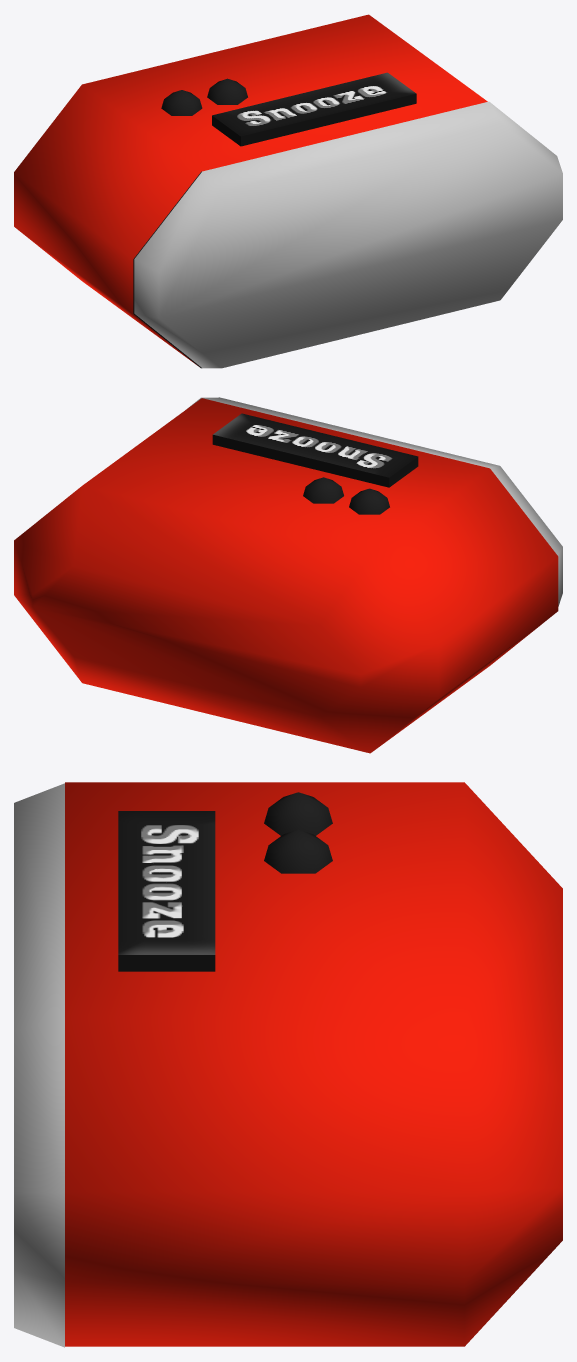
Rendered from Alarm_Clock_C.FBX.
The picture shows the model from 3 angles, top to bottom: view 1: azimuth 30°, elevation 25°; view 2: azimuth 150°, elevation 25°; view 3: azimuth 270°, elevation 25°; orthographic projection. The views are drawn at different scales.
Visible parts, largest first — view 1: Alarm Clock; view 2: Alarm Clock; view 3: Alarm Clock.
Boxes of the visible parts, x1=… form: Alarm Clock: x1=14, y1=14, x2=562, y2=368; Alarm Clock: x1=14, y1=397, x2=562, y2=753; Alarm Clock: x1=14, y1=782, x2=562, y2=1347.
Bounding box in the file's own units: 45.12 × 21.9 × 30.18.
